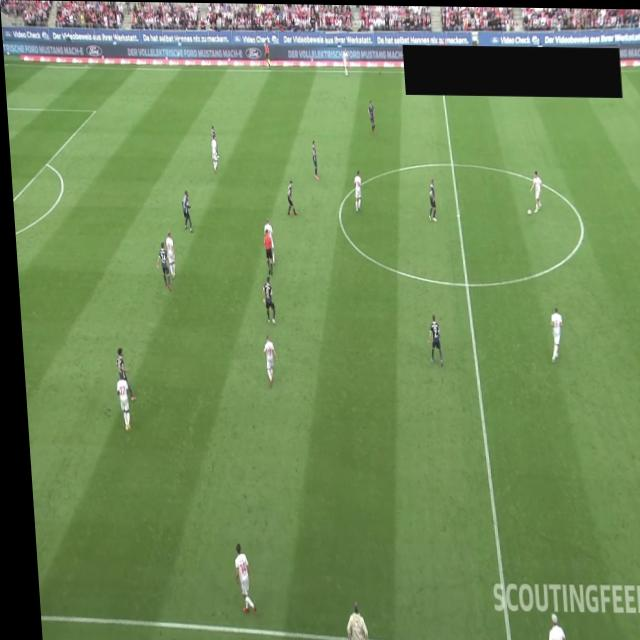player: (226, 542, 249, 615), (109, 372, 131, 431), (110, 347, 131, 401), (543, 304, 561, 361), (421, 313, 439, 367), (257, 333, 275, 387), (152, 241, 168, 291), (257, 275, 272, 323), (260, 218, 273, 264), (527, 169, 541, 211), (161, 230, 173, 278), (179, 189, 191, 232), (424, 177, 435, 221), (283, 179, 296, 215), (351, 169, 361, 211), (208, 132, 217, 173), (310, 139, 319, 179), (207, 125, 217, 159), (366, 99, 374, 133), (341, 46, 349, 76)
referee: (259, 228, 271, 274), (263, 38, 270, 67)
